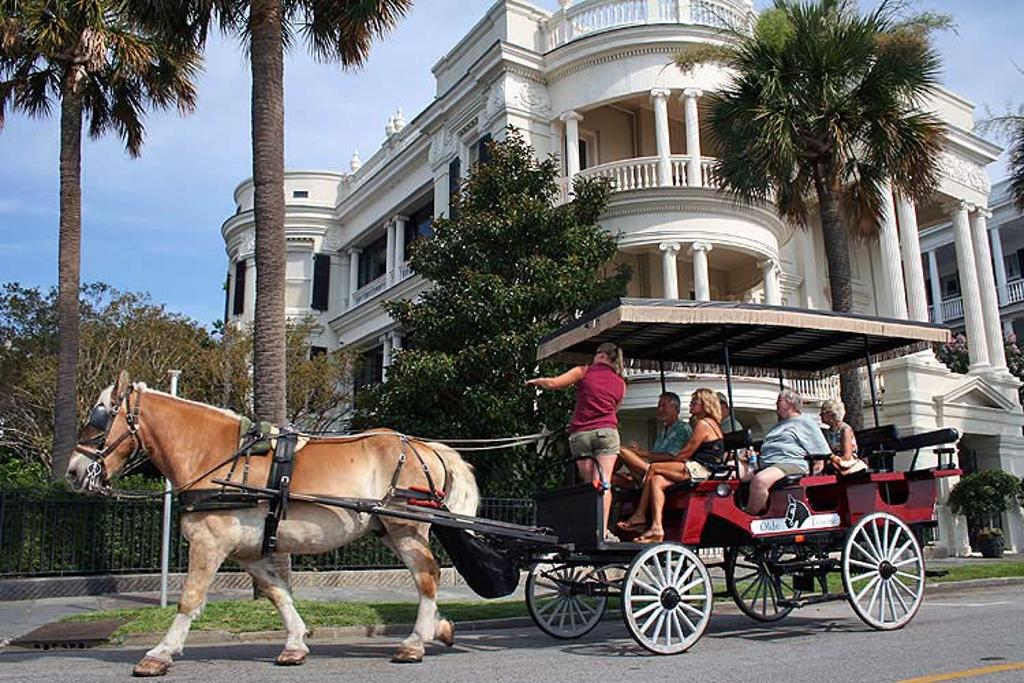face: (658, 397, 673, 419), (776, 394, 791, 414), (690, 393, 704, 413), (820, 405, 832, 422), (593, 346, 604, 363)
